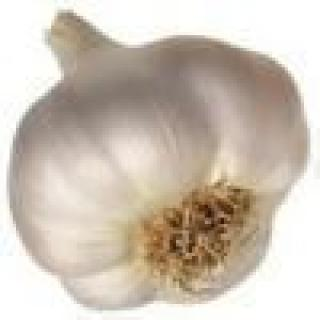Bawang Putih: (11, 11, 308, 308)
